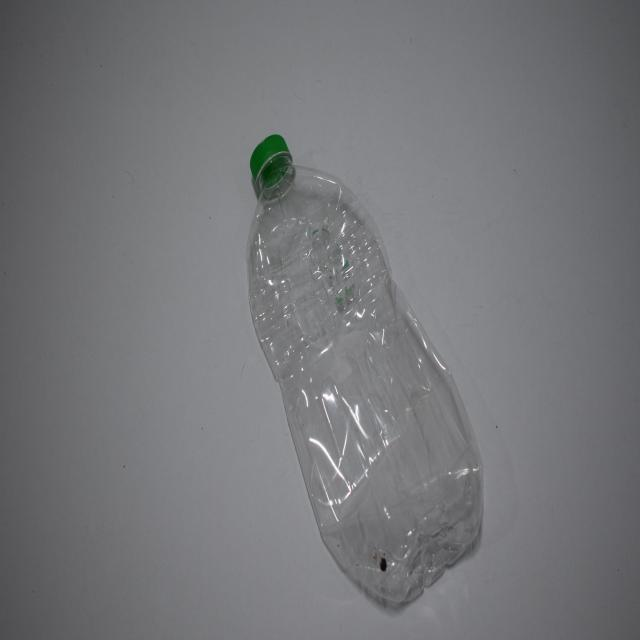bottle: (235, 112, 499, 616)
